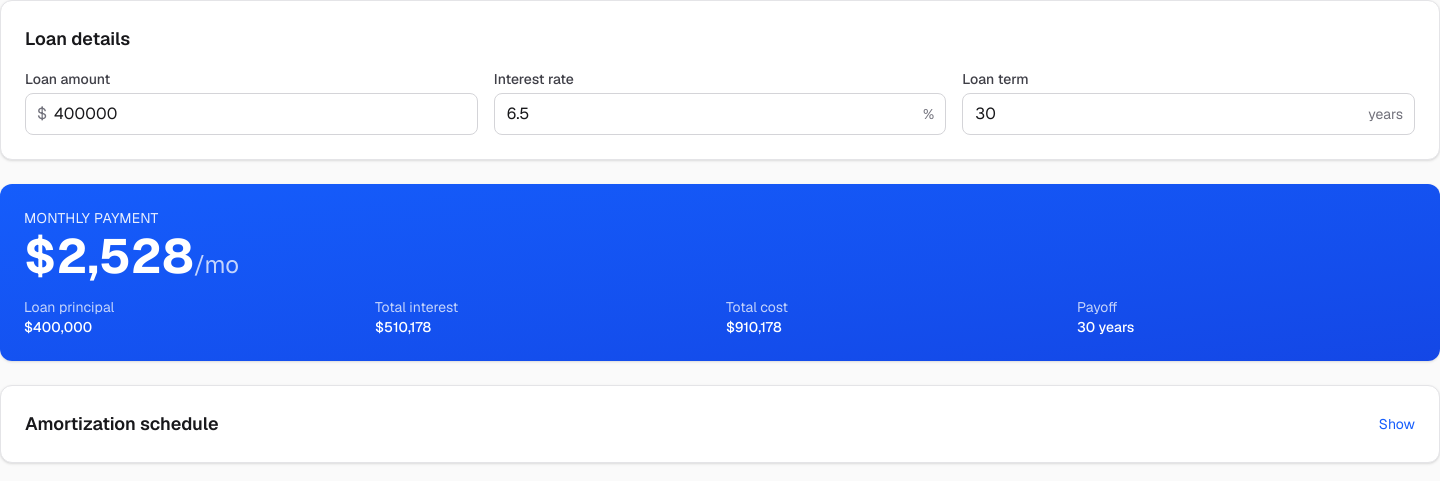
Test: MortgageCalculator › updates monthly payment when interest rate changes
The image size is (1440, 481).
Replace the text in the number field labelled "Interest rate %" with "5.0" at (720, 114), box [494,93,946,135]
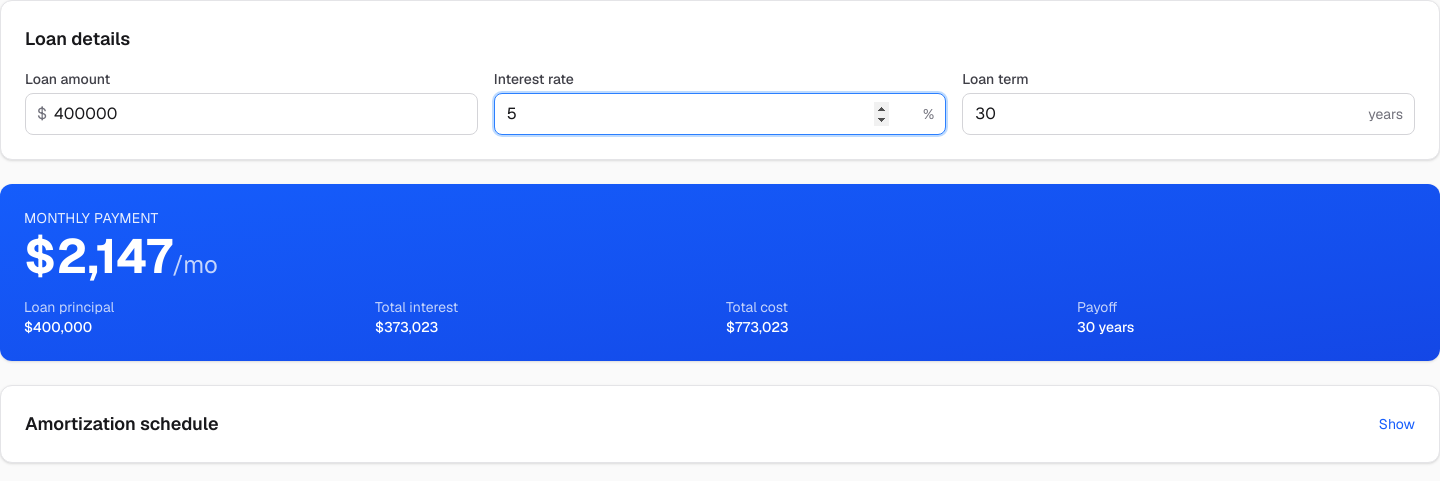
Check: the text "$2,147/mo" is shown, box [24,225,218,287]
